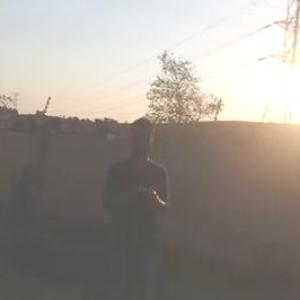follow: (95, 110, 175, 299)
